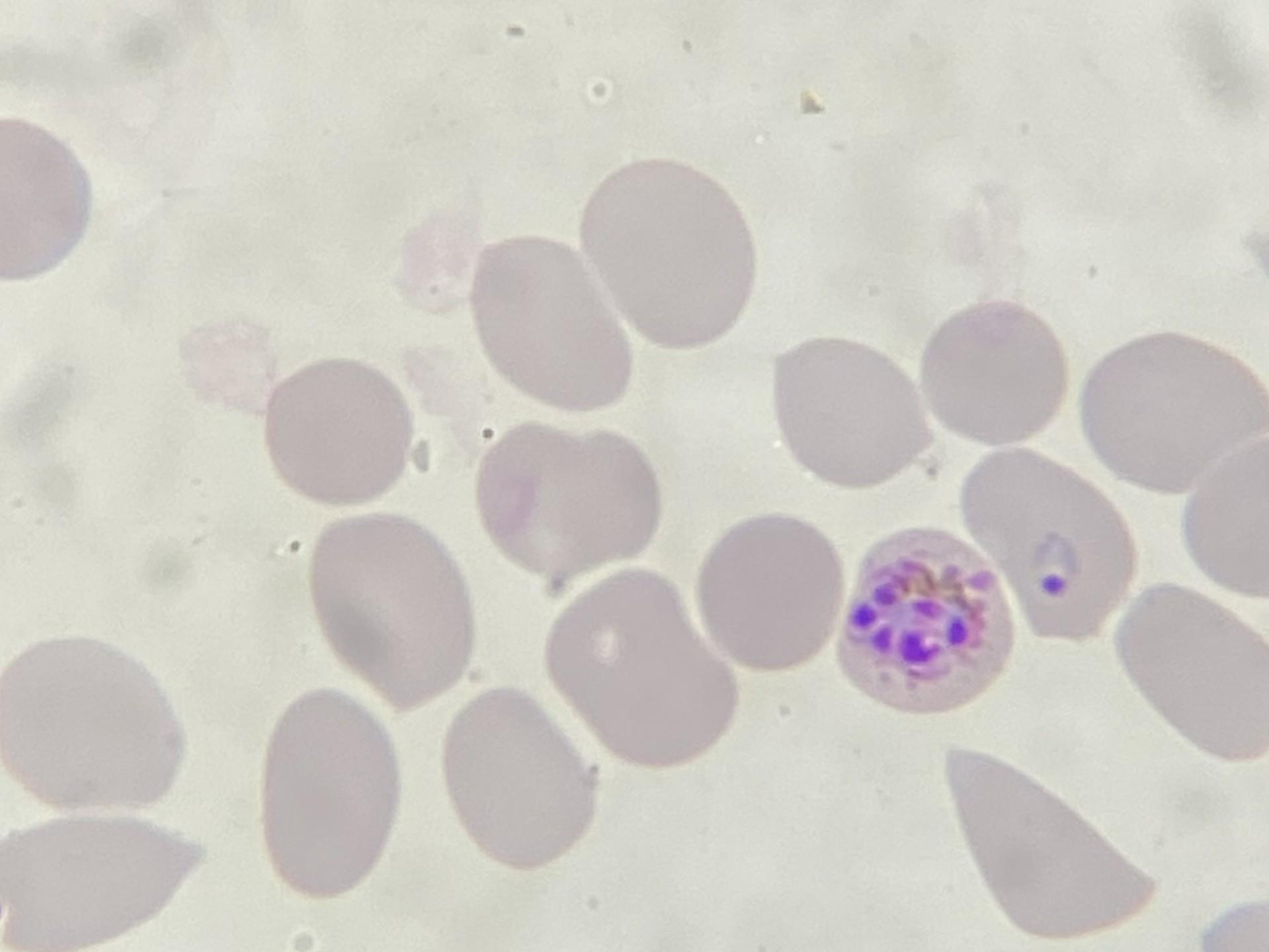Infected: (963, 450, 1133, 641), (837, 527, 1012, 712)
Uninfected: (946, 750, 1151, 939), (546, 572, 733, 767), (584, 157, 758, 355), (307, 513, 477, 711), (0, 637, 183, 816), (475, 423, 659, 589), (1113, 576, 1269, 764), (261, 691, 401, 900), (468, 238, 634, 414), (439, 691, 596, 872), (1081, 334, 1264, 489), (0, 815, 201, 948), (772, 337, 934, 489), (696, 516, 844, 673), (263, 359, 411, 507), (920, 302, 1070, 447)
